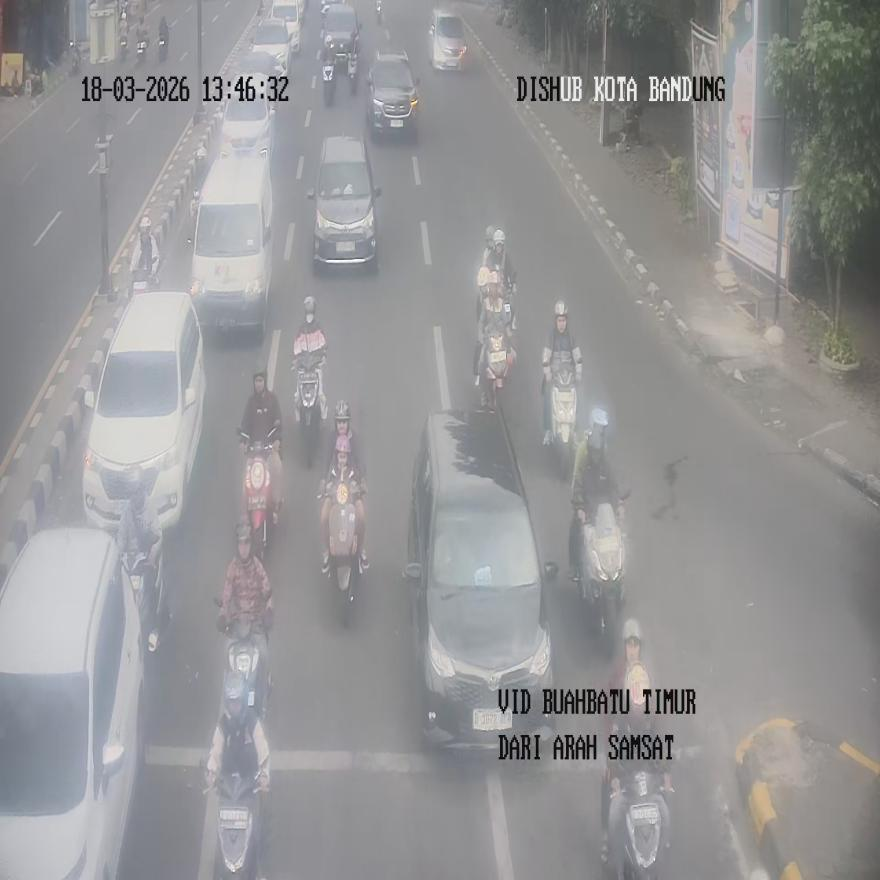Motor: (403, 407, 558, 746), (0, 528, 145, 878), (82, 290, 205, 535), (188, 148, 273, 335), (308, 133, 381, 268), (366, 47, 418, 136), (428, 6, 466, 70)
Truk: (205, 674, 269, 879), (570, 491, 628, 642), (601, 761, 670, 880), (211, 766, 268, 880), (322, 468, 363, 625), (219, 608, 271, 725), (237, 427, 281, 562), (122, 532, 168, 654), (544, 369, 578, 478), (294, 364, 325, 469), (480, 332, 513, 410), (129, 217, 160, 294), (322, 53, 336, 105), (136, 26, 148, 64), (347, 49, 357, 93), (158, 17, 168, 60), (69, 42, 80, 76), (376, 0, 382, 24)
